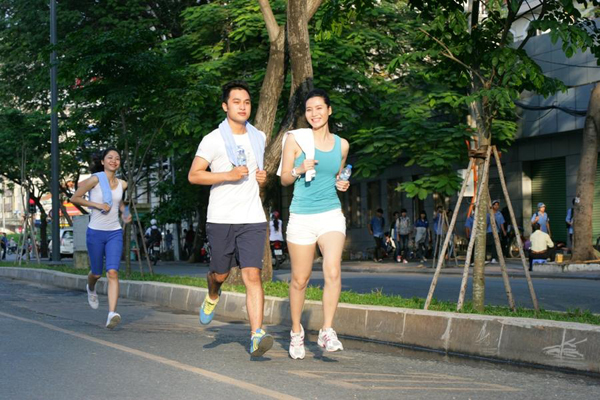person: (270, 82, 373, 366), (182, 76, 278, 361), (68, 140, 139, 334)
